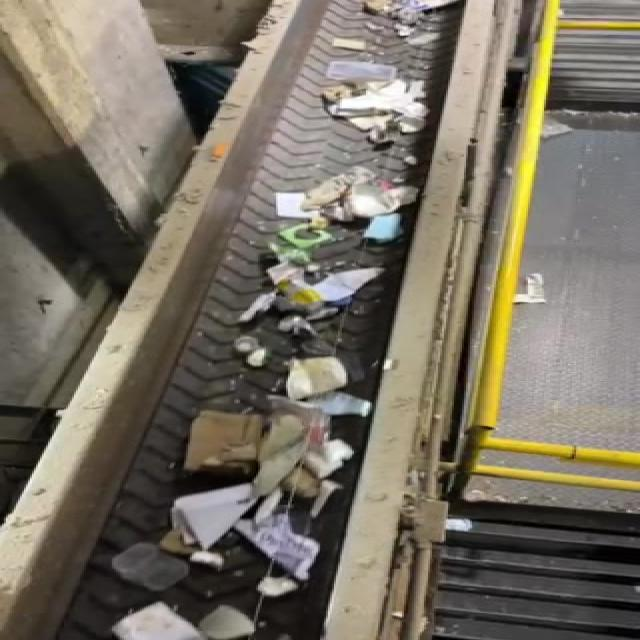paper: (184, 404, 272, 494), (167, 487, 268, 557)
pp: (101, 542, 202, 599)
